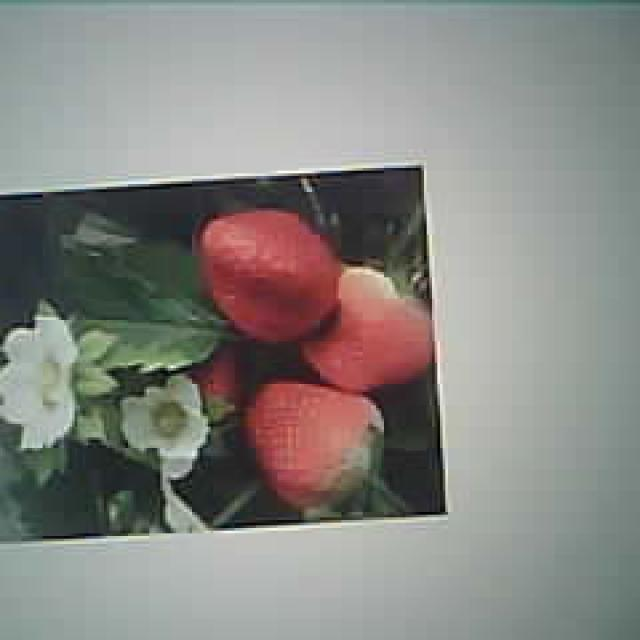ripe: (248, 378, 386, 508), (206, 213, 340, 337)
